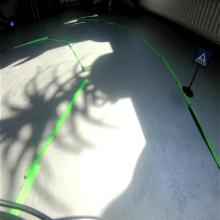crosswalk: (192, 46, 212, 69)
